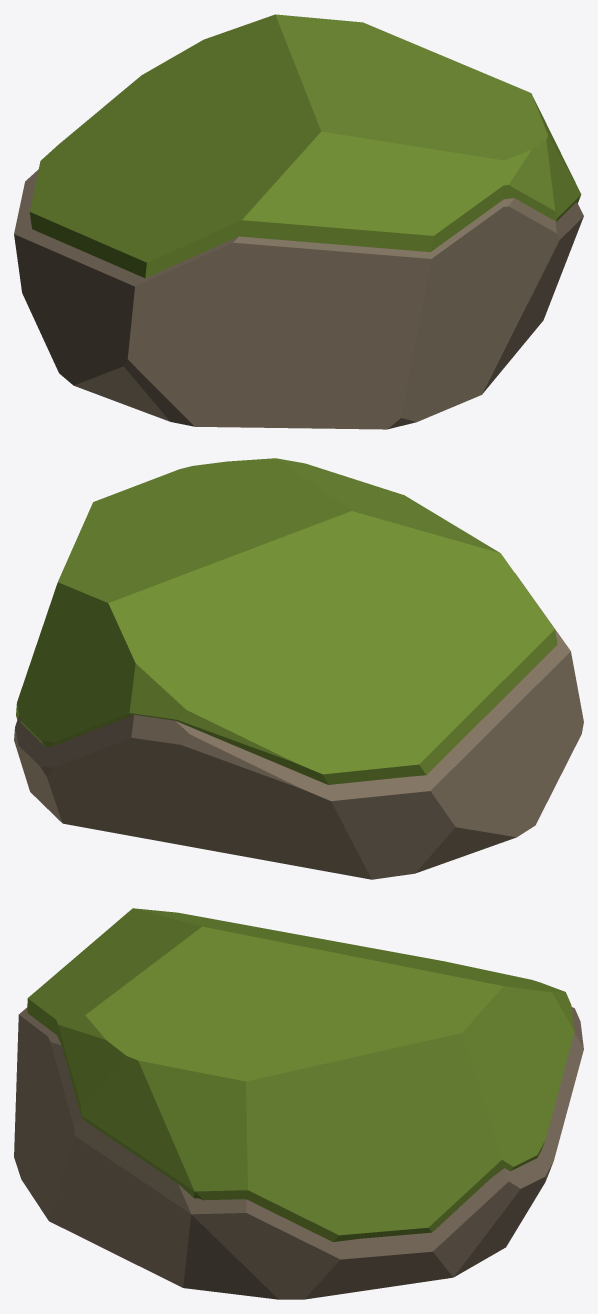
Rendered from Stone_4_moss_brown_mat.fbx.
3 views of the same model, one above another, from view 1: azimuth 30°, elevation 25°; view 2: azimuth 150°, elevation 25°; view 3: azimuth 270°, elevation 25° (orthographic). The views are drawn at different scales.
Visible parts, largest first — view 1: Stone_4_moss_brown_mat; view 2: Stone_4_moss_brown_mat; view 3: Stone_4_moss_brown_mat.
Boxes of the visible parts, box(x1,y1,x2,y2) form: Stone_4_moss_brown_mat: box(14, 14, 583, 429); Stone_4_moss_brown_mat: box(14, 458, 583, 879); Stone_4_moss_brown_mat: box(14, 908, 583, 1299).
Size of the model in its own units: 91.18 by 43.44 by 89.55.
